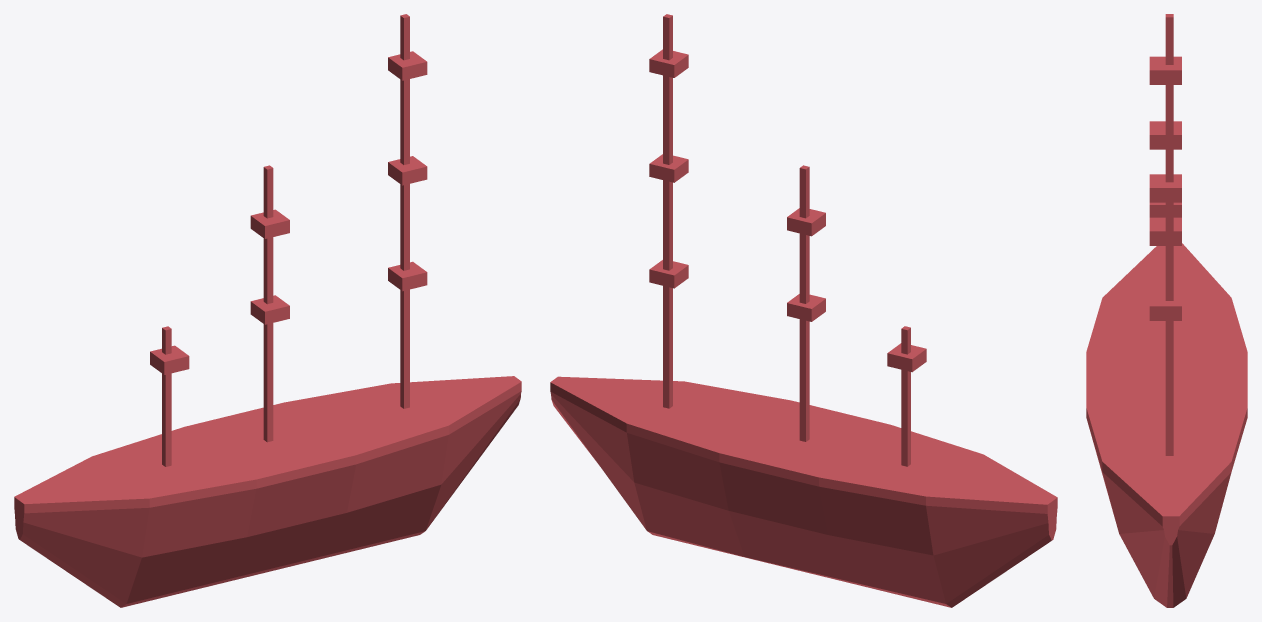
The model's file is Ship.fbx.
3 renders of one model, left to right at view 1: azimuth 30°, elevation 25°; view 2: azimuth 150°, elevation 25°; view 3: azimuth 270°, elevation 25°, orthographic. The views are drawn at different scales.
Parts seen in each view (by area): view 1: Ship; view 2: Ship; view 3: Ship.
Boxes of the visible parts, left/top/right/bottom form: Ship: left=14, top=14, right=521, bottom=607; Ship: left=550, top=14, right=1057, bottom=607; Ship: left=1086, top=14, right=1247, bottom=607.
Size of the model in its own units: 8 by 7.99 by 2.
